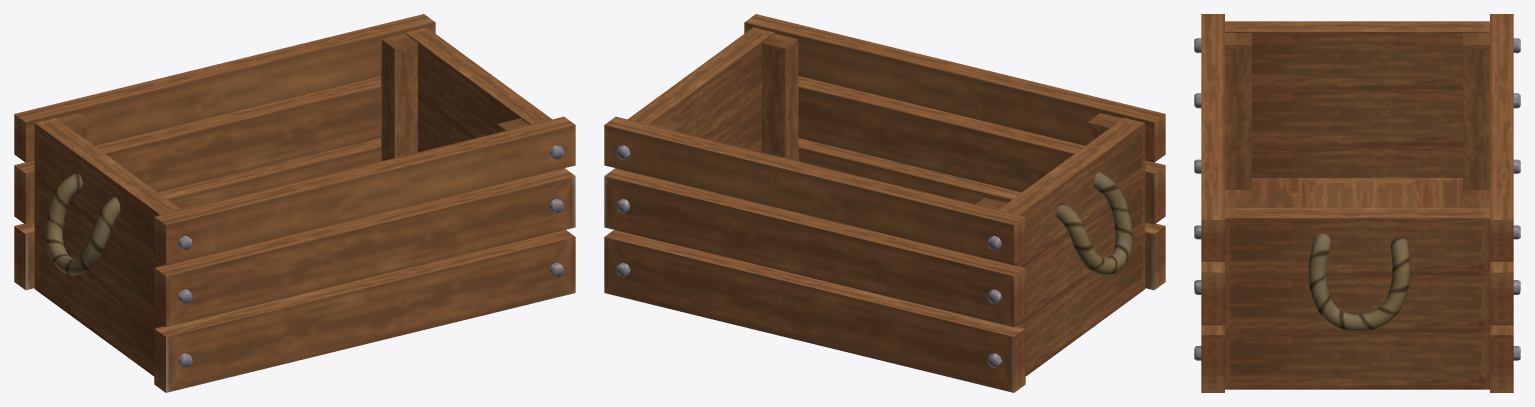
File: farm_crate_empty.glb
3 renders of one model, left to right at view 1: azimuth 30°, elevation 25°; view 2: azimuth 150°, elevation 25°; view 3: azimuth 270°, elevation 25°, orthographic. The views are drawn at different scales.
Visible parts, largest first — view 1: FarmCrate_Empty; view 2: FarmCrate_Empty; view 3: FarmCrate_Empty.
Boxes of the visible parts, box(x1,y1,x2,y2) form: FarmCrate_Empty: box(14, 14, 575, 392); FarmCrate_Empty: box(604, 14, 1165, 392); FarmCrate_Empty: box(1194, 14, 1520, 392).
Bounding box in the file's own units: 0.7138 × 0.2438 × 0.4142.
Materials: 2 (2 with a texture image).
